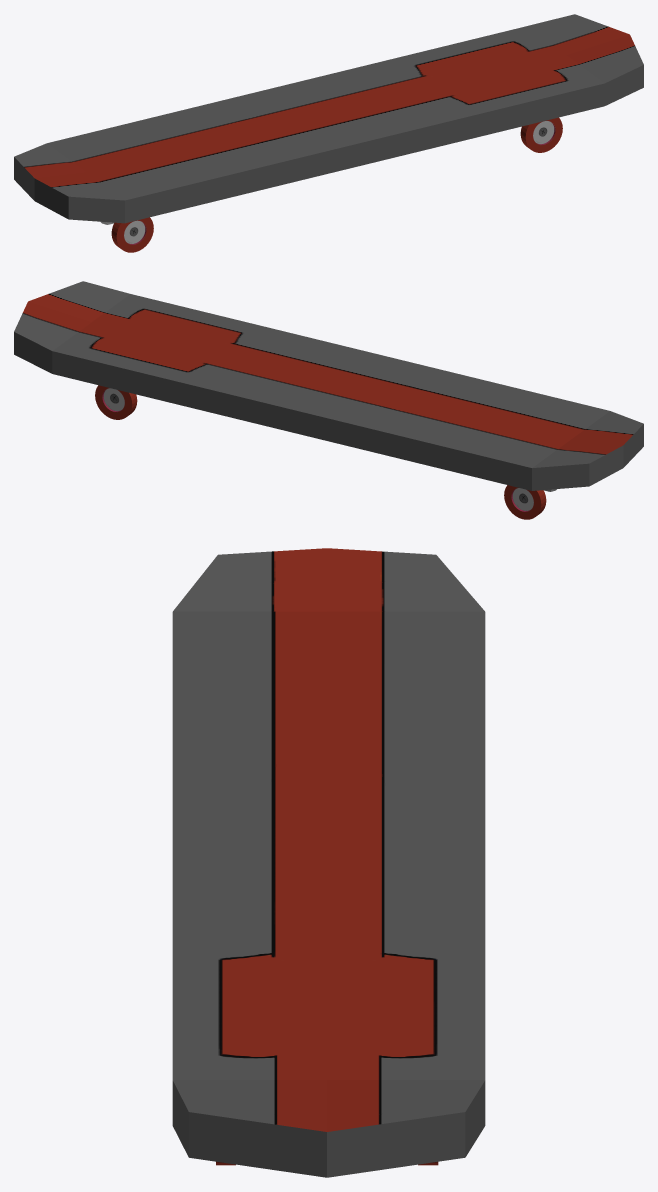
The model's file is Skate_Alex.fbx.
3 views of the same model, one above another, from view 1: azimuth 30°, elevation 25°; view 2: azimuth 150°, elevation 25°; view 3: azimuth 270°, elevation 25° (orthographic). The views are drawn at different scales.
Visible parts, largest first — view 1: skate, Rueda 1, Rueda 3; view 2: skate, Rueda 2, Rueda 4; view 3: skate.
Part boxes in pixels (<box>): skate: <box>14,14,643,223</box>; Rueda 1: <box>111,217,153,252</box>; Rueda 3: <box>520,117,562,152</box>; skate: <box>14,281,643,490</box>; Rueda 2: <box>504,485,546,519</box>; Rueda 4: <box>95,385,137,419</box>; skate: <box>172,548,485,1177</box>.
Bounding box in the file's own units: 248 × 28.46 × 56.46.
